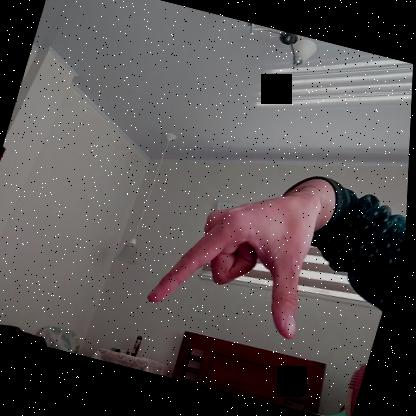Q: (146, 172, 334, 342)
